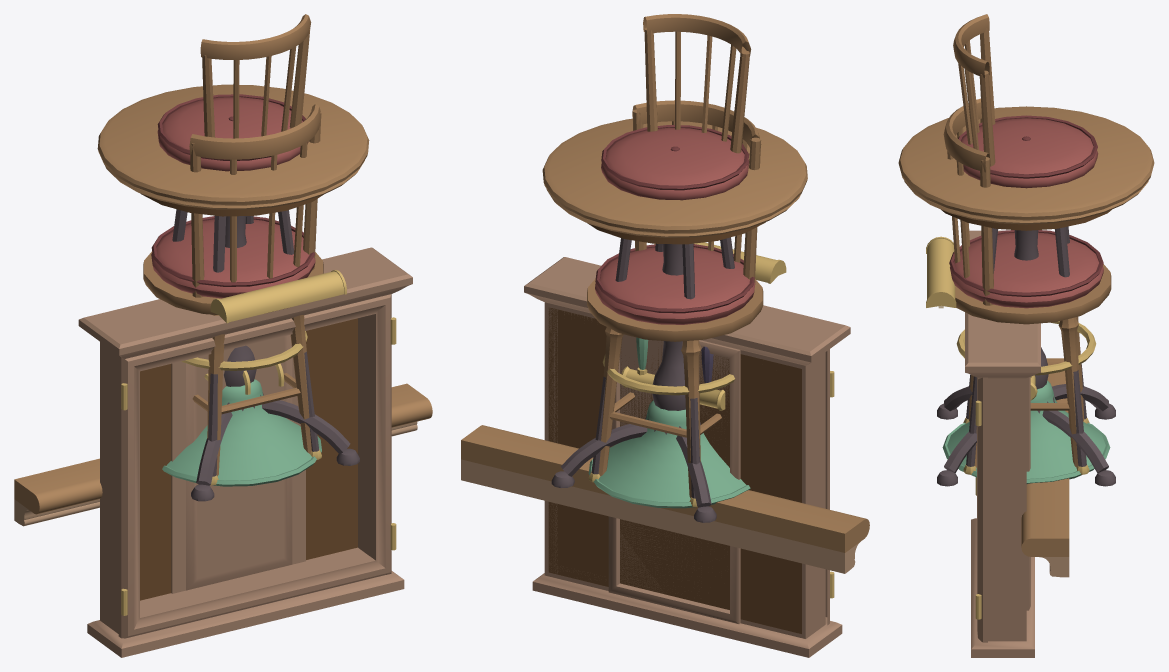
Rendered from bar_props.glb.
3 renders of one model, left to right at view 1: azimuth 30°, elevation 25°; view 2: azimuth 150°, elevation 25°; view 3: azimuth 270°, elevation 25°, orthographic. The views are drawn at different scales.
Visible parts, largest first — view 1: Cabinet, Table, Chair, CabDoor, Stool, Lamp, CntNose, StoolBack, CabLamp; view 2: Cabinet, Table, Chair, CntNose, Stool, CabDoor, Lamp, StoolBack, Tap, CabLamp; view 3: Table, Cabinet, Chair, Stool, CntNose, Lamp, StoolBack, CabLamp, CabDoor.
Boxes of the visible parts, <box> form: Cabinet: <box>78,247,412,657</box>; Table: <box>97,84,369,501</box>; Chair: <box>143,104,323,476</box>; CabDoor: <box>171,334,305,593</box>; Stool: <box>157,94,321,485</box>; Lamp: <box>162,379,321,486</box>; CntNose: <box>14,383,432,526</box>; StoolBack: <box>200,14,311,138</box>; CabLamp: <box>210,270,346,323</box>; Cabinet: <box>524,257,850,657</box>; Table: <box>542,118,807,522</box>; Chair: <box>587,100,763,498</box>; CntNose: <box>461,425,869,573</box>; Stool: <box>588,125,749,506</box>; CabDoor: <box>608,334,740,623</box>; Lamp: <box>588,400,750,508</box>; StoolBack: <box>643,14,751,153</box>; Tap: <box>621,337,725,410</box>; CabLamp: <box>654,242,786,283</box>; Table: <box>898,106,1154,486</box>; Cabinet: <box>965,230,1040,657</box>; Chair: <box>943,98,1111,467</box>; Stool: <box>956,115,1098,474</box>; CntNose: <box>1021,358,1069,577</box>; Lamp: <box>942,380,1110,483</box>; StoolBack: <box>953,14,995,166</box>; CabLamp: <box>926,236,956,308</box>; CabDoor: <box>1026,377,1030,610</box>.
Size of the model in its own units: 1 by 1.44 by 0.6.
